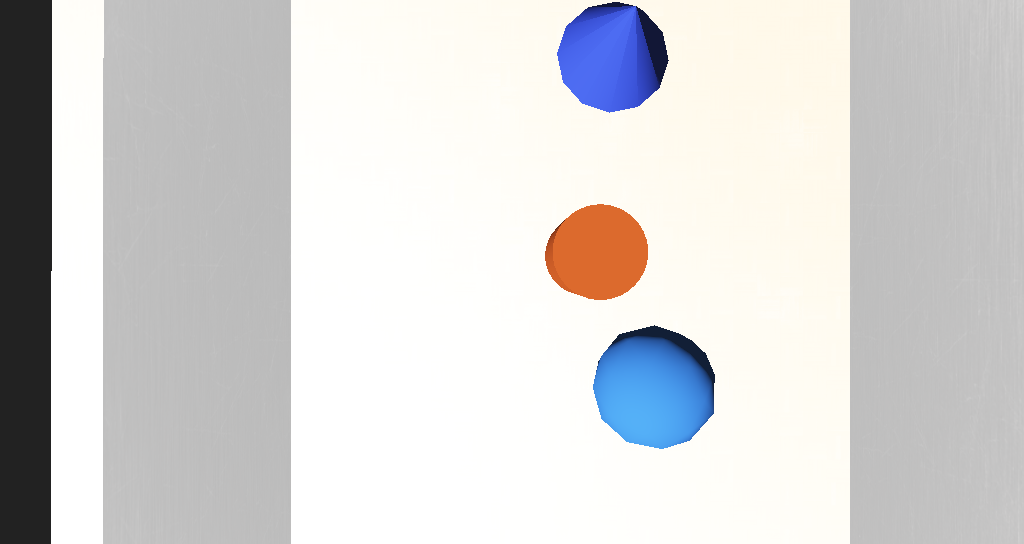cone: (495, 246, 542, 279)
cylinder: (499, 155, 566, 208)
sphere: (512, 289, 579, 332)
